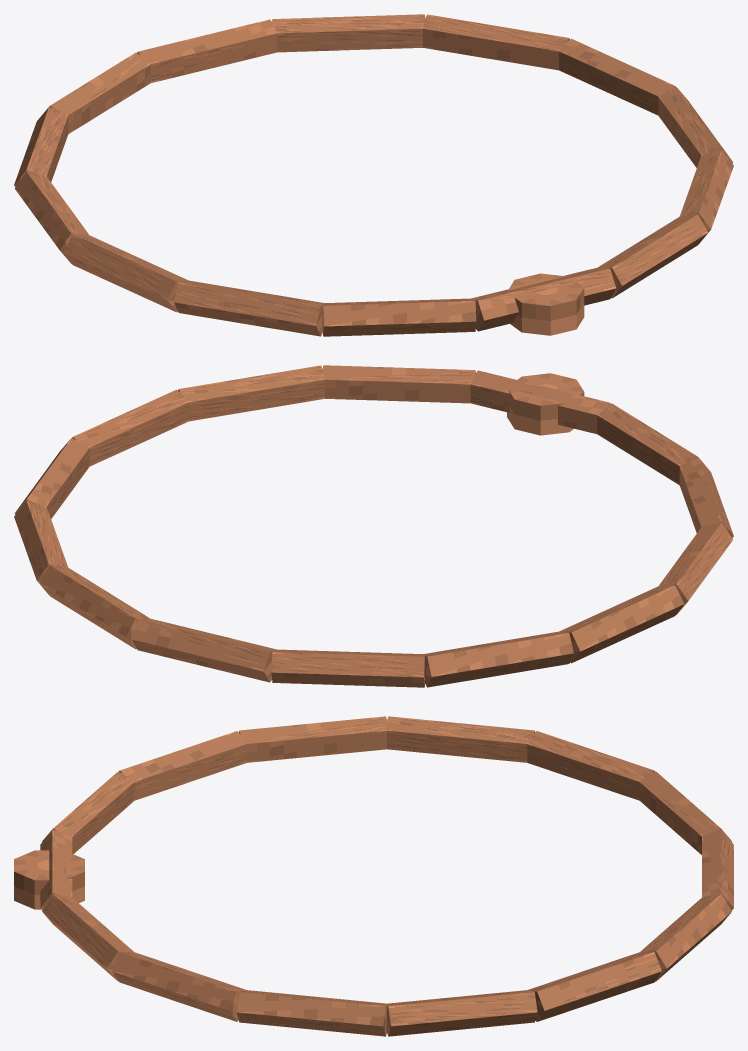
The model's file is copper_necklace.glb.
The picture shows the model from 3 angles, top to bottom: view 1: azimuth 30°, elevation 25°; view 2: azimuth 150°, elevation 25°; view 3: azimuth 270°, elevation 25°; orthographic projection.
Visible parts, largest first — view 1: block_necklace chain4, block_necklace chain5, block_necklace chain11, block_necklace chain12, block_necklace chain10, block_necklace chain6, block_necklace chain13, block_necklace chain2, block_clasp, block_necklace chain9, block_necklace chain3, block_necklace chain7 (+3 smaller); view 2: block_necklace chain9, block_necklace chain8, block_necklace chain2, block_necklace chain10, block_necklace chain1, block_necklace chain7, block_necklace chain0, block_necklace chain11, block_necklace chain4, block_necklace chain3, block_clasp, block_necklace chain6 (+3 smaller); view 3: block_necklace chain13, block_necklace chain0, block_necklace chain7, block_necklace chain6, block_necklace chain12, block_necklace chain1, block_necklace chain8, block_necklace chain5, block_necklace chain2, block_necklace chain11, block_necklace chain9, block_necklace chain4 (+3 smaller).
Boxes of the visible parts, <box> form: block_necklace chain4: <box>323,298,476,336</box>; block_necklace chain5: <box>174,280,324,336</box>; block_necklace chain11: <box>272,14,424,52</box>; block_necklace chain12: <box>423,14,569,70</box>; block_necklace chain10: <box>137,19,277,82</box>; block_necklace chain6: <box>64,234,188,312</box>; block_necklace chain13: <box>559,38,675,115</box>; block_necklace chain2: <box>598,214,708,298</box>; block_clasp: <box>508,273,584,335</box>; block_necklace chain9: <box>49,52,150,133</box>; block_necklace chain3: <box>471,267,616,331</box>; block_necklace chain7: <box>14,171,89,263</box>; block_necklace chain9: <box>271,649,424,687</box>; block_necklace chain8: <box>423,631,573,687</box>; block_necklace chain2: <box>323,365,475,403</box>; block_necklace chain10: <box>131,618,276,682</box>; block_necklace chain1: <box>178,365,324,421</box>; block_necklace chain7: <box>559,585,683,663</box>; block_necklace chain0: <box>72,389,188,466</box>; block_necklace chain11: <box>39,565,149,649</box>; block_necklace chain4: <box>597,403,698,484</box>; block_necklace chain3: <box>470,370,610,433</box>; block_clasp: <box>507,373,584,435</box>; block_necklace chain6: <box>658,522,733,614</box>; block_necklace chain13: <box>387,990,537,1036</box>; block_necklace chain0: <box>236,990,386,1036</box>; block_necklace chain7: <box>387,716,535,762</box>; block_necklace chain6: <box>239,716,386,762</box>; block_necklace chain12: <box>528,952,661,1021</box>; block_necklace chain1: <box>112,952,246,1021</box>; block_necklace chain8: <box>527,731,654,800</box>; block_necklace chain5: <box>119,731,246,800</box>; block_necklace chain2: <box>42,894,134,981</box>; block_necklace chain11: <box>640,894,731,981</box>; block_necklace chain9: <box>639,771,731,854</box>; block_necklace chain4: <box>42,771,134,854</box>.
Size of the model in its own units: 0.0733 by 0.00379 by 0.0743.
Materials: 1 (1 with a texture image).
